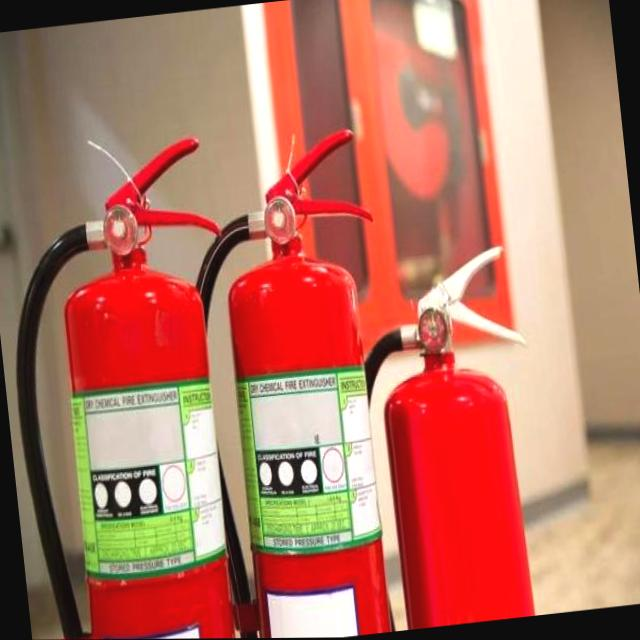FireExtinguisher: (0, 127, 264, 640), (161, 124, 417, 639), (311, 236, 559, 635)
